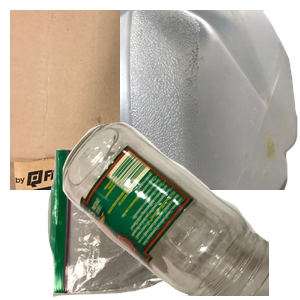cardboard: (10, 10, 250, 190)
glass: (60, 120, 300, 300)
plastic: (120, 10, 300, 190)
trash: (45, 144, 235, 300)
